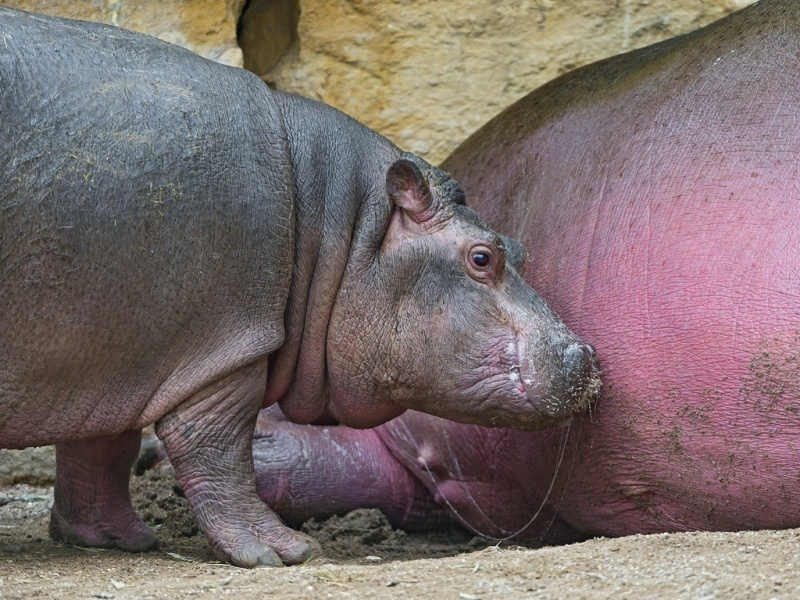hipopotamo: (2, 60, 606, 574)
